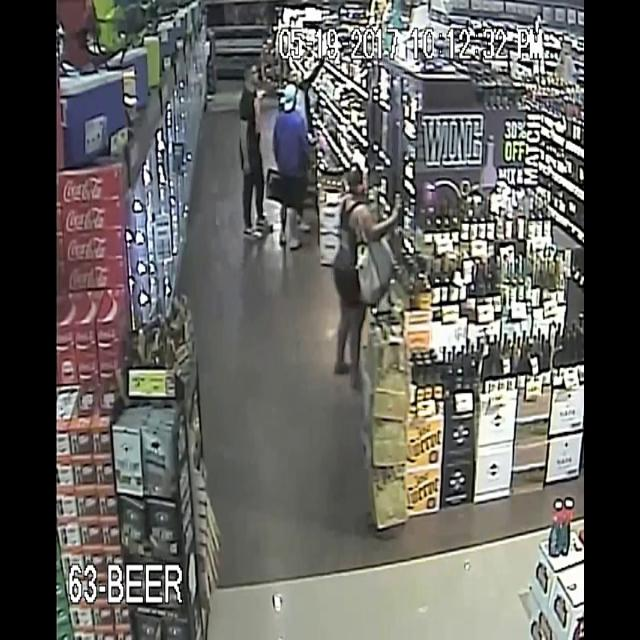normal: (324, 136, 424, 407), (232, 31, 290, 231), (277, 74, 314, 206)
